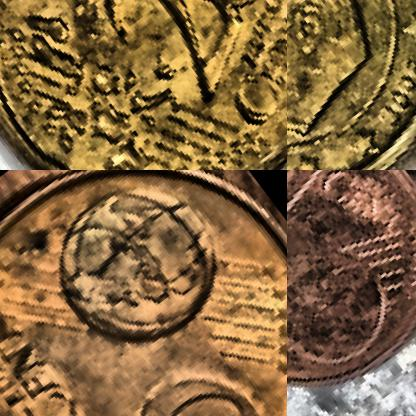coin: (0, 170, 286, 415), (0, 0, 286, 169), (287, 170, 415, 415), (287, 0, 415, 169)
